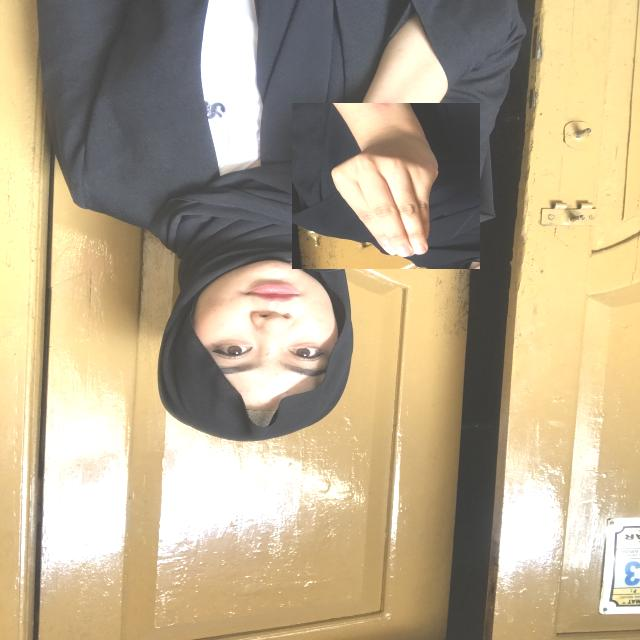kapan: (292, 103, 480, 269)
